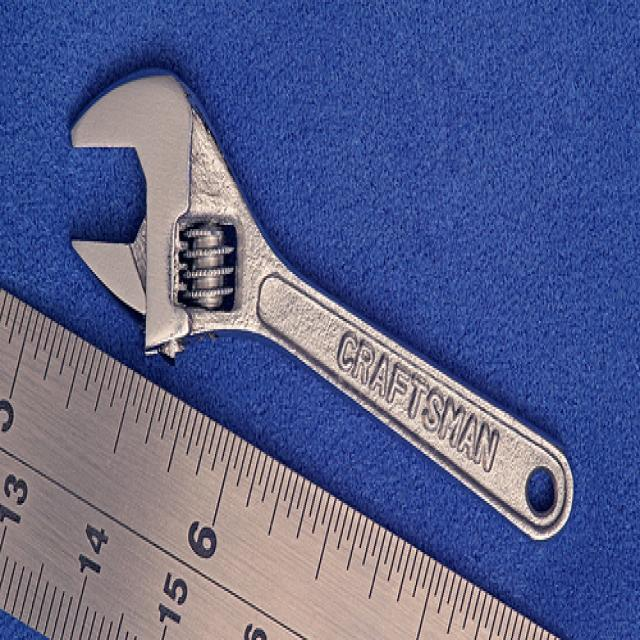wrench: (62, 56, 576, 542)
